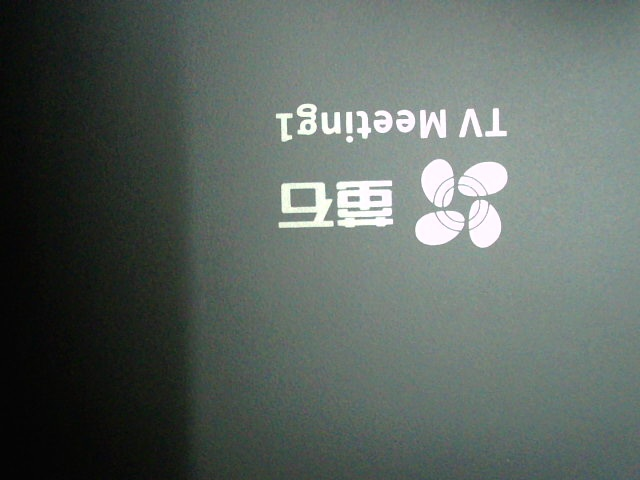BA_Yingshi: (274, 99, 510, 249)
